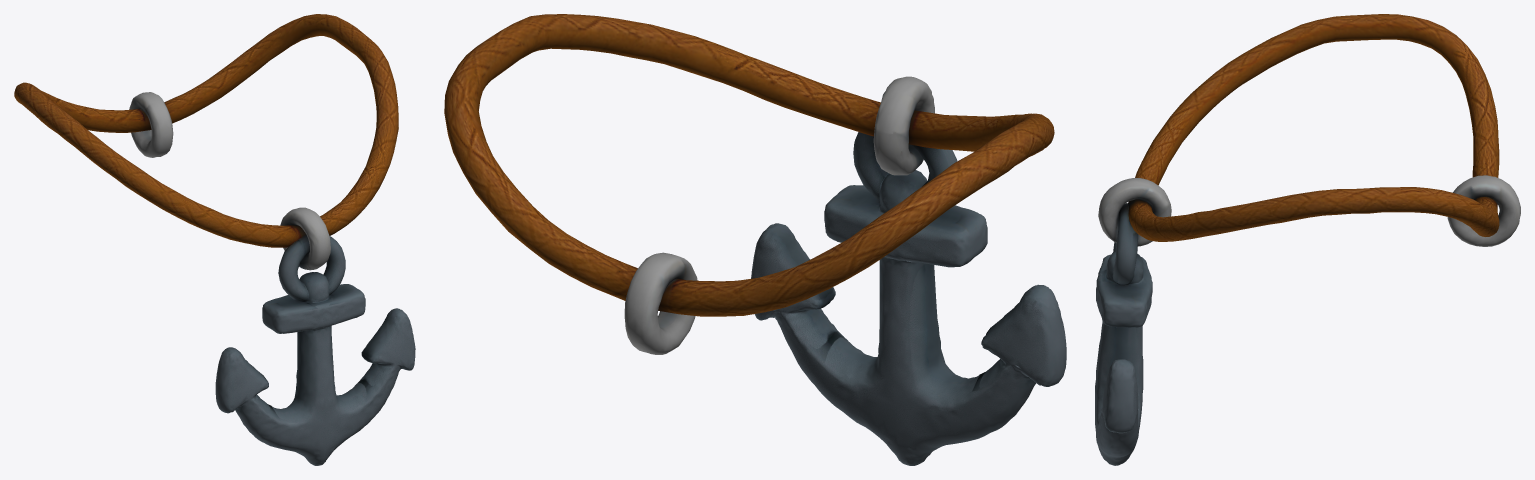
File: mem_ac_anchor.fbx
3 renders of one model, left to right at view 1: azimuth 30°, elevation 25°; view 2: azimuth 150°, elevation 25°; view 3: azimuth 270°, elevation 25°, orthographic. The views are drawn at different scales.
Visible parts, largest first — view 1: tripo_node_a8c5c432; view 2: tripo_node_a8c5c432; view 3: tripo_node_a8c5c432.
Boxes of the visible parts, x1,y1,x2,y2 form: tripo_node_a8c5c432: (14,14,415,465); tripo_node_a8c5c432: (444,14,1066,465); tripo_node_a8c5c432: (1095,14,1520,465).
Bounding box in the file's own units: 0.998 × 0.9355 × 0.998.
